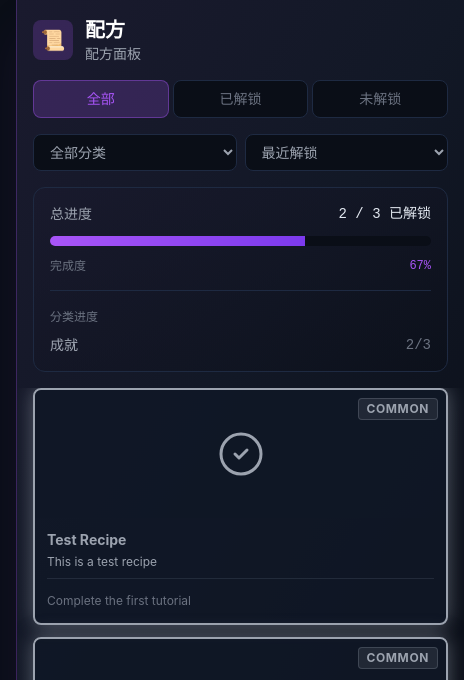
Test: RecipePanel Component › AC-182-002: RecipePanel filtering works › "Locked" tab shows only locked recipes
# Click locked tab
Click the button with test id "recipe-tab-locked" at (380, 99), box [312,80,448,118]
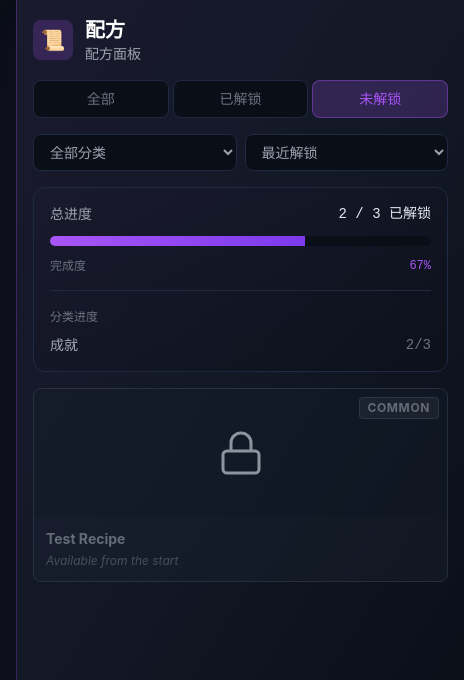
expect the element with test id "recipe-card-r1" is gone: met
expect the element with test id "recipe-card-r2" is shown: met, box [33,388,448,582]
